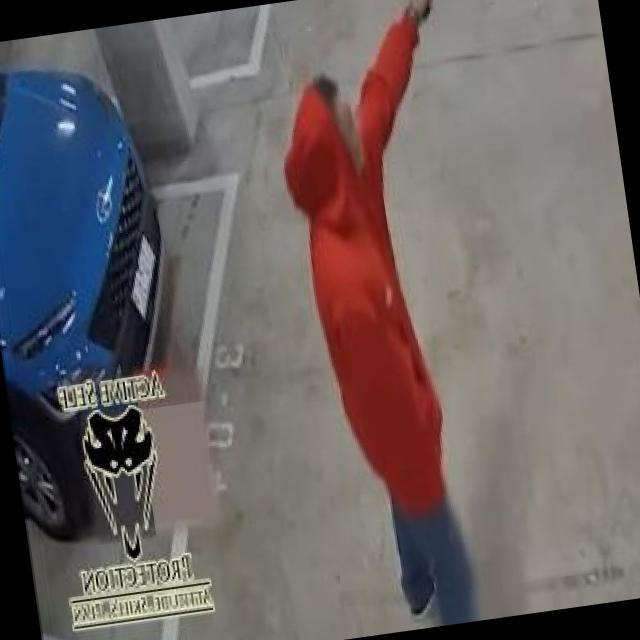Guns: (402, 0, 455, 25)
